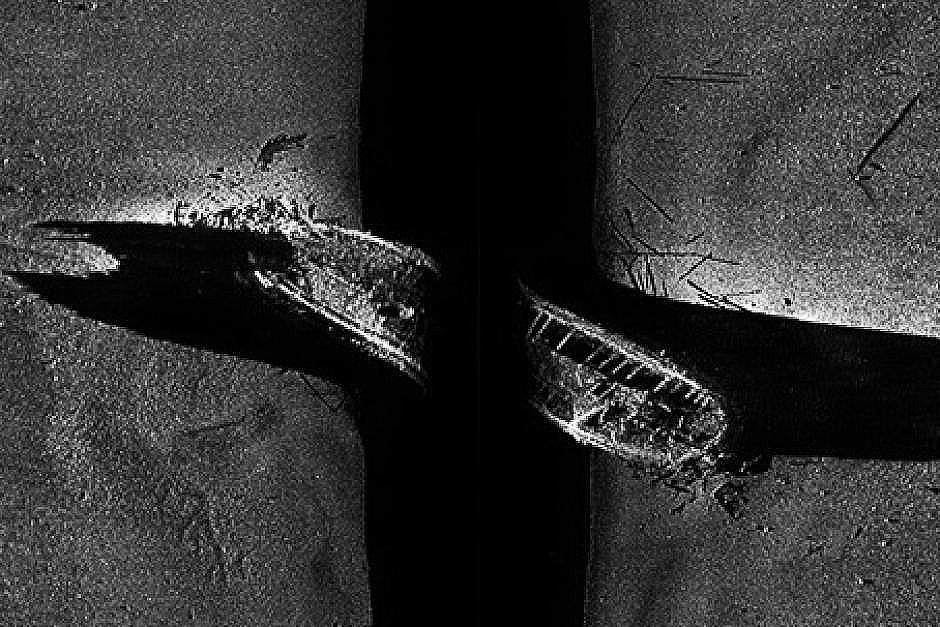ship: (214, 199, 736, 475)
